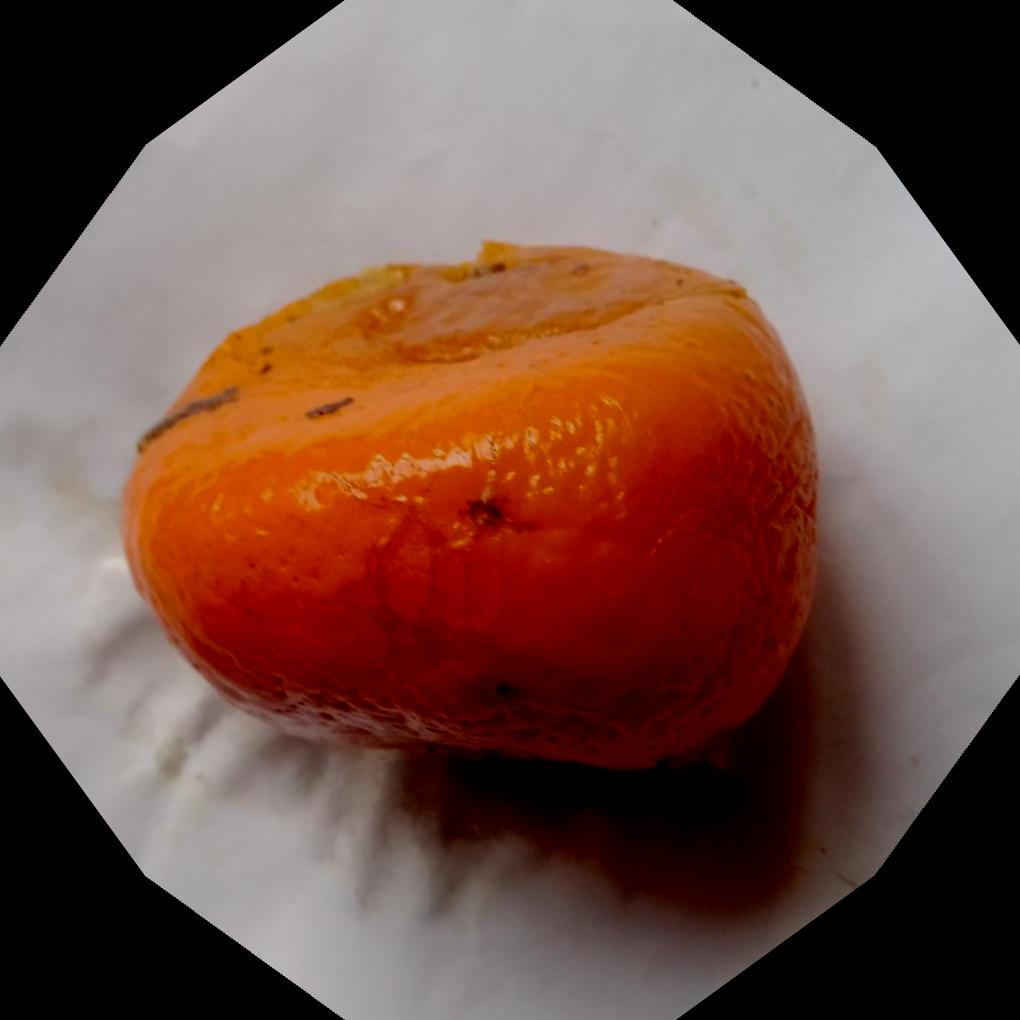FreshOrange: (119, 239, 824, 781)
